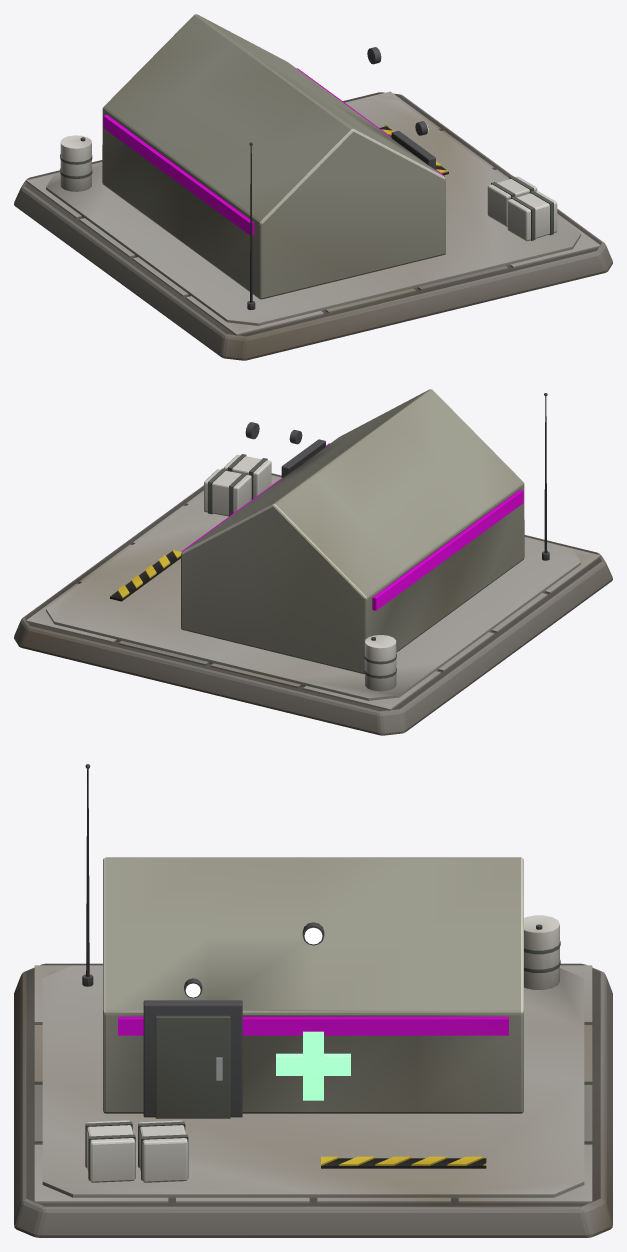
File: field_hospital.glb
3 views of the same model, one above another, from view 1: azimuth 30°, elevation 25°; view 2: azimuth 150°, elevation 25°; view 3: azimuth 270°, elevation 25° (orthographic). The views are drawn at different scales.
Visible parts, largest first — view 1: Body; view 2: Body; view 3: Body.
Boxes of the visible parts, x1,y1,x2,y2 form: Body: (14, 14, 612, 360); Body: (14, 389, 612, 735); Body: (14, 764, 612, 1237).
Bounding box in the file's own units: 3.98 × 1.86 × 3.98.
Materials: 1 (1 with a texture image).
